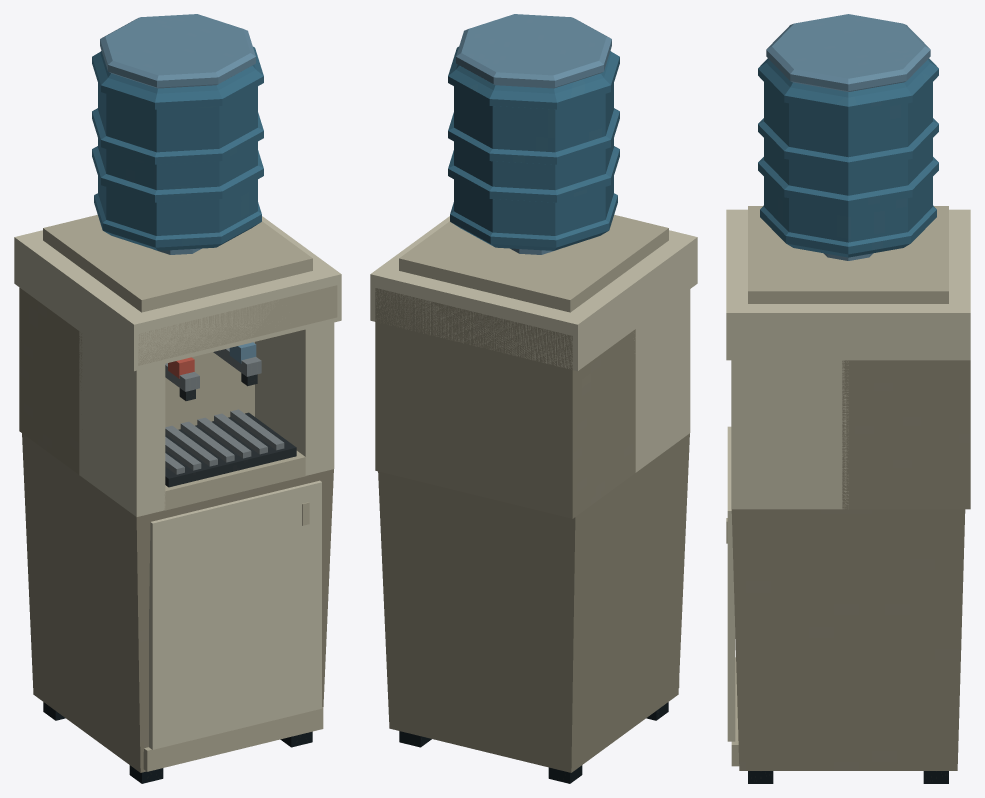
File: water_cooler.glb
3 renders of one model, left to right at view 1: azimuth 30°, elevation 25°; view 2: azimuth 150°, elevation 25°; view 3: azimuth 270°, elevation 25°, orthographic.
Parts seen in each view (by area): view 1: core_water_cooler; view 2: core_water_cooler; view 3: core_water_cooler.
Boxes of the visible parts, x1,y1,x2,y2 form: core_water_cooler: [14, 14, 341, 783]; core_water_cooler: [370, 14, 697, 783]; core_water_cooler: [726, 14, 970, 783].
Size of the model in its own units: 0.35 by 1.1 by 0.35.
Materials: 9 (8 with a texture image).
